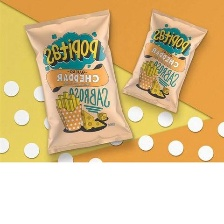snack: (19, 2, 139, 159), (117, 4, 214, 116)
